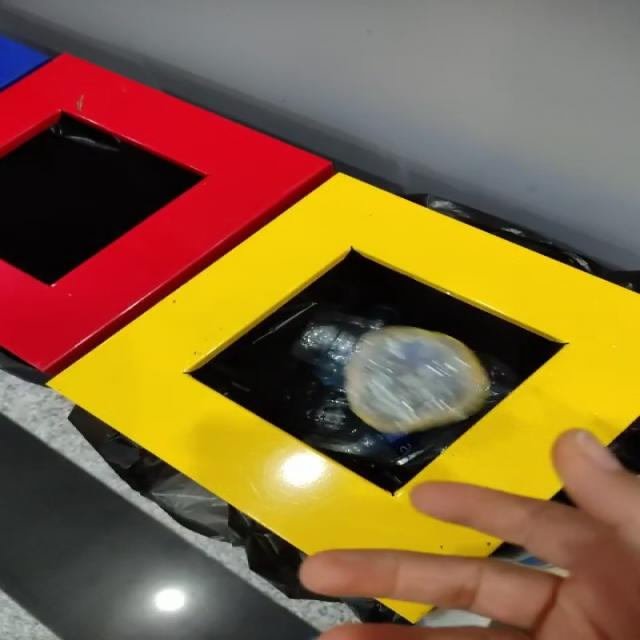plastic: (345, 326, 491, 435)
